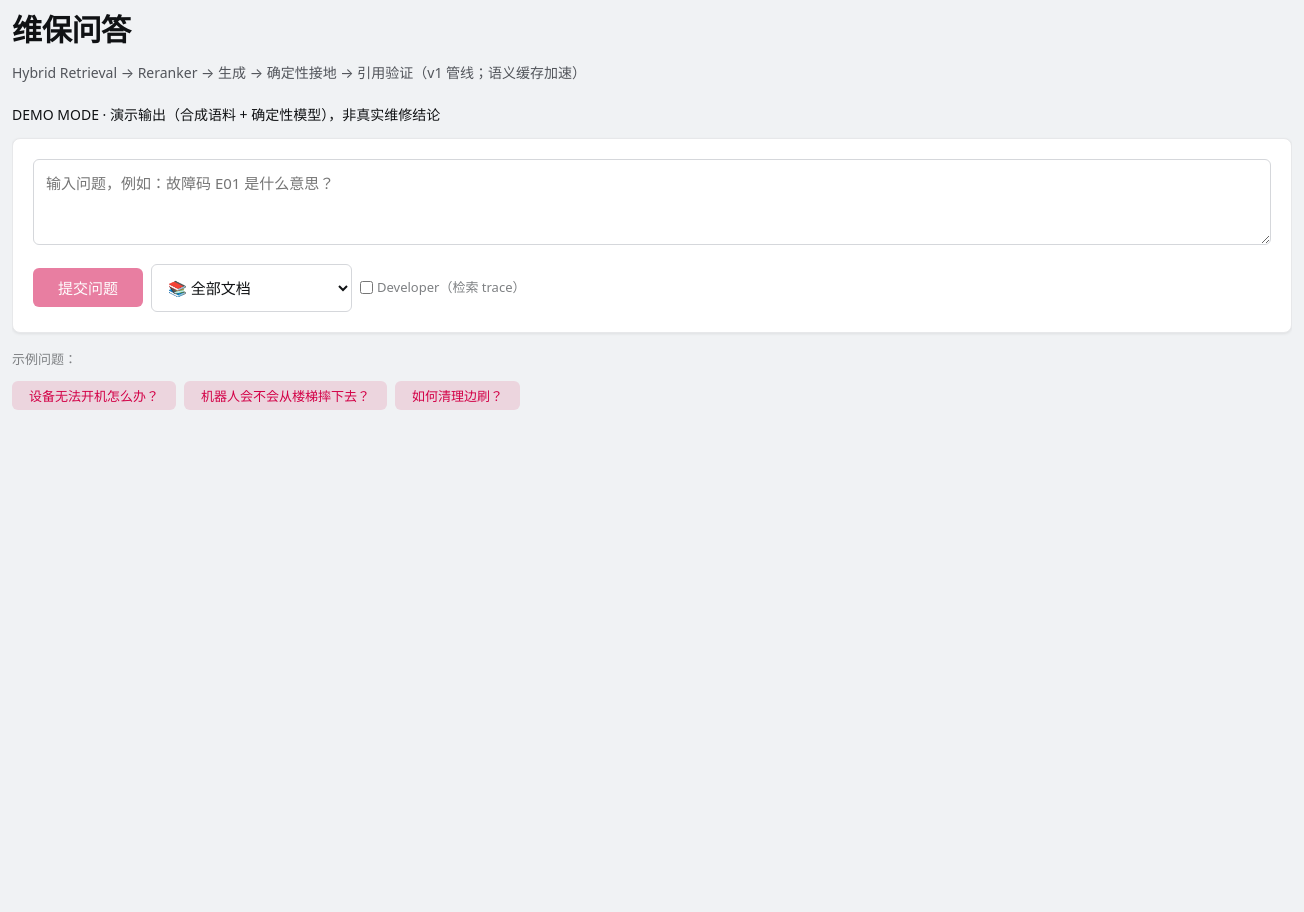
Scenario: QAPanel › shows cache badge on cache hit
Type "故障码 E01 是什么意思" into the text box with placeholder "输入问题，例如：故障码 E01 是什么意思？" at (652, 202), box [33,159,1271,245]
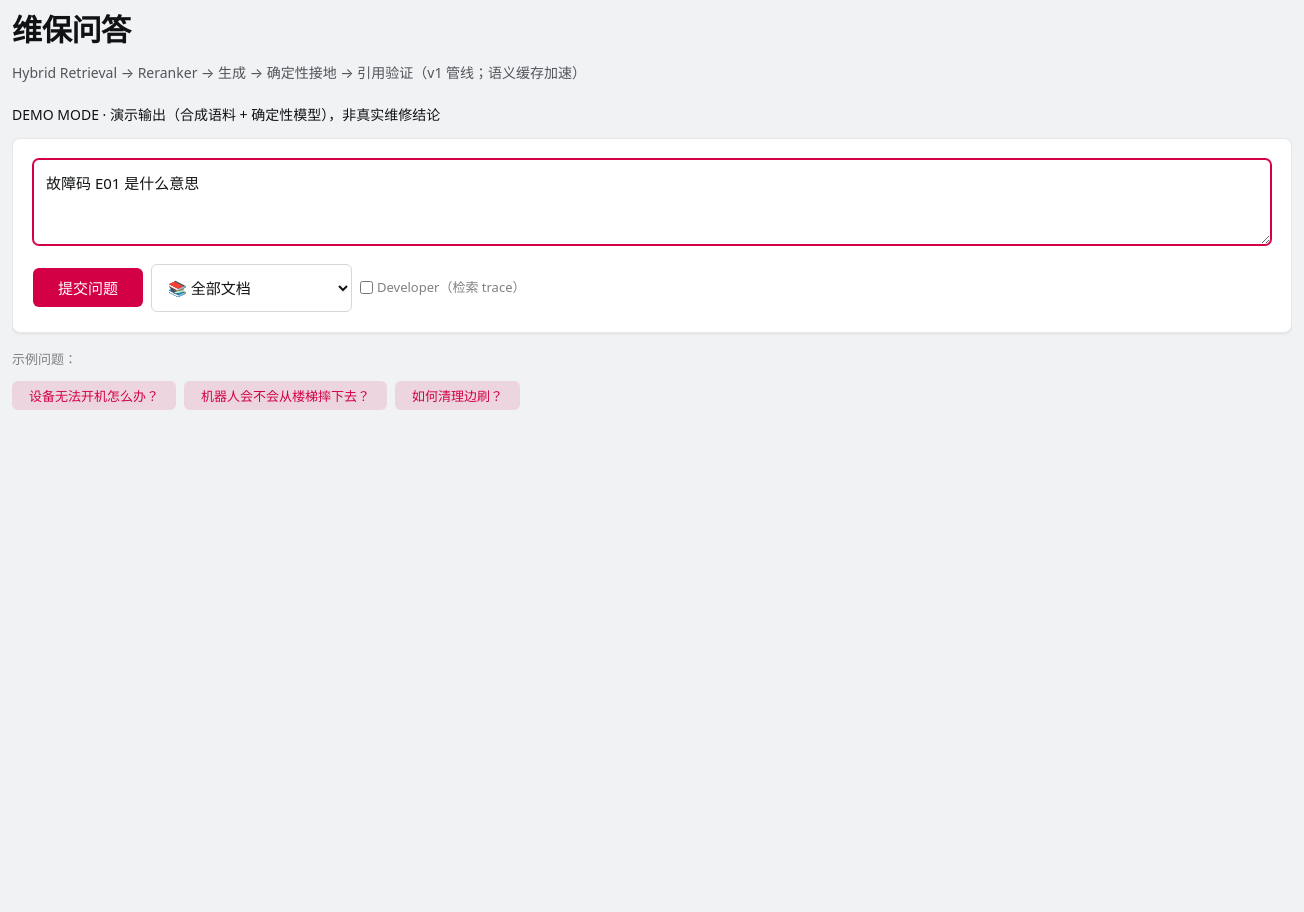
Click the button "提交问题" at (88, 288), box [33,268,143,307]
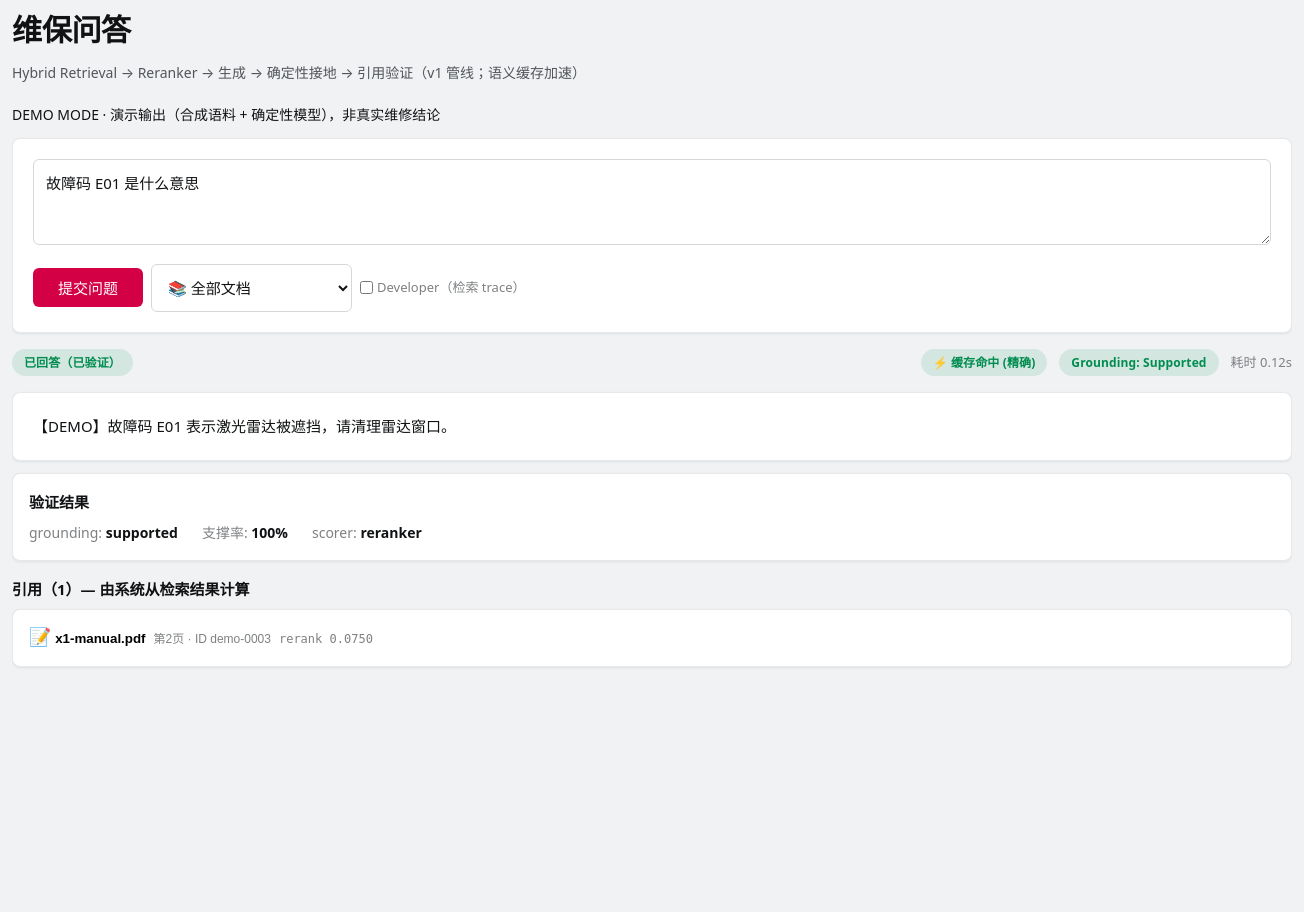
Expected: the text "⚡ 缓存命中 (精确)" is shown, [921,349,1047,376]
